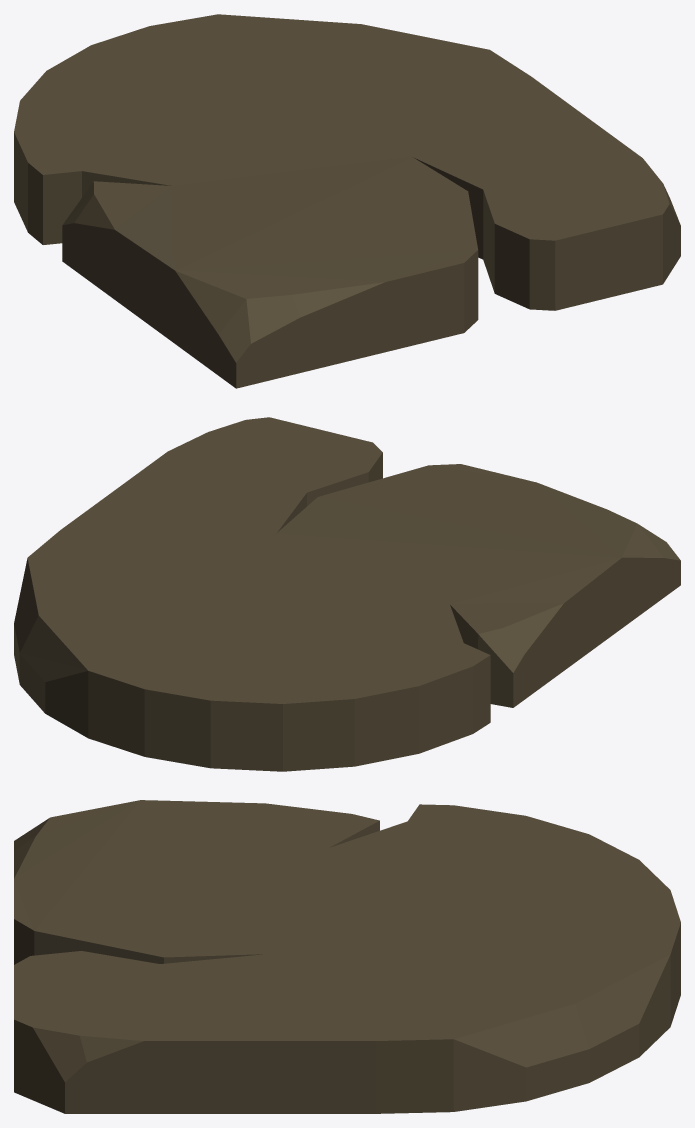
Rendered from ITMI_STONEPLATE_READ_01.OBJ.
3 renders of one model, top to bottom at view 1: azimuth 30°, elevation 25°; view 2: azimuth 150°, elevation 25°; view 3: azimuth 270°, elevation 25°, orthographic. The views are drawn at different scales.
Parts seen in each view (by area): view 1: ITMI_STONEPLATE_READ_01; view 2: ITMI_STONEPLATE_READ_01; view 3: ITMI_STONEPLATE_READ_01.
Boxes of the visible parts, <box> form: ITMI_STONEPLATE_READ_01: <box>14,14,680,388</box>; ITMI_STONEPLATE_READ_01: <box>14,417,680,771</box>; ITMI_STONEPLATE_READ_01: <box>14,800,680,1113</box>.
Size of the model in its own units: 0.4191 by 0.0626 by 0.4969.
